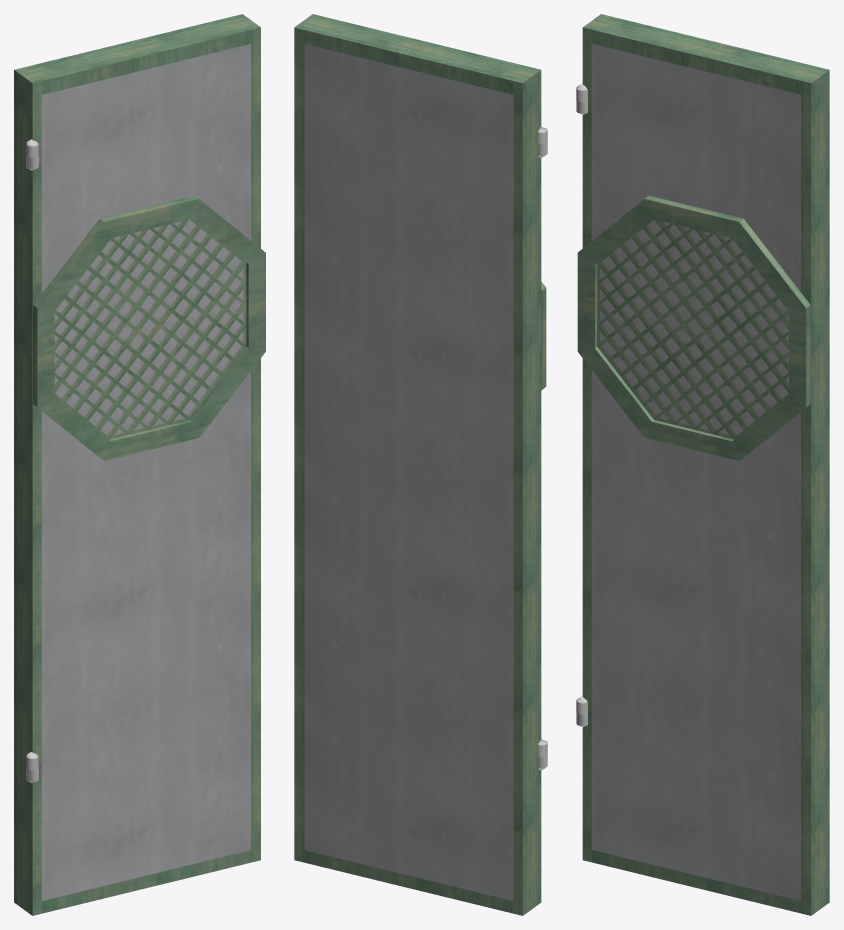
Rendered from SM_D_Wood_4.FBX.
3 views of the same model, side by side, from view 1: azimuth 30°, elevation 25°; view 2: azimuth 150°, elevation 25°; view 3: azimuth 330°, elevation 25° (orthographic).
Visible parts, largest first — view 1: SM_D_Wood_4; view 2: SM_D_Wood_4; view 3: SM_D_Wood_4.
Part boxes in pixels (left/top/right/bottom): SM_D_Wood_4: left=14, top=14, right=265, bottom=915; SM_D_Wood_4: left=294, top=14, right=547, bottom=915; SM_D_Wood_4: left=576, top=14, right=829, bottom=915.
Bounding box in the file's own units: 69.89 × 12.1 × 238.
